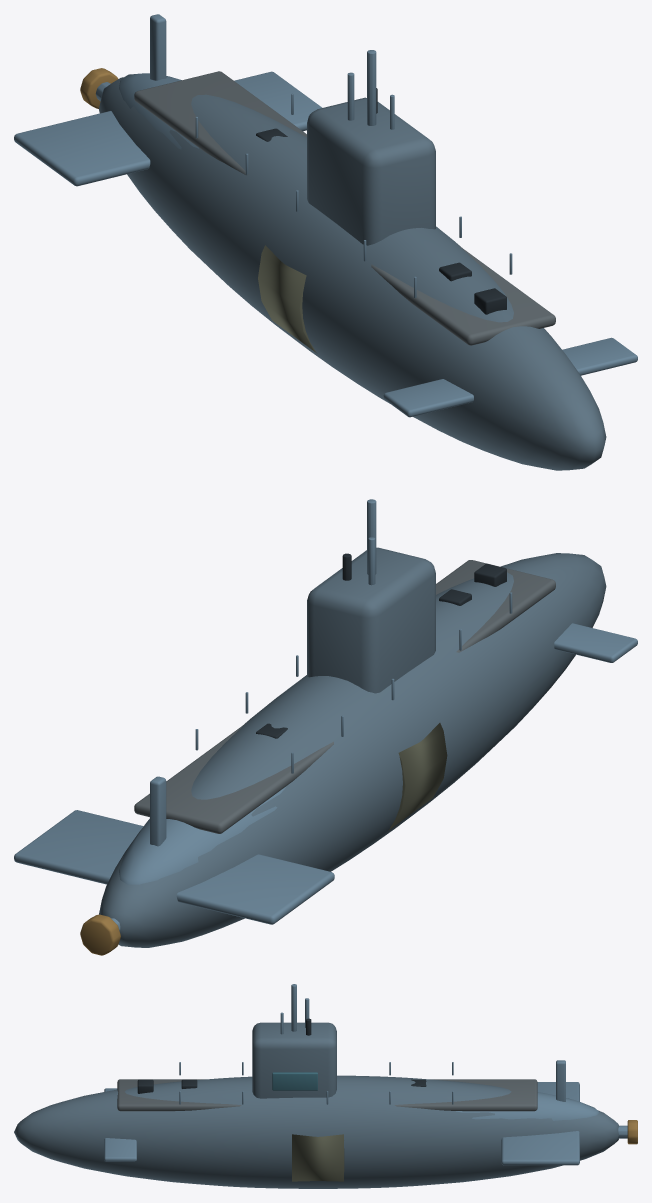
The model's file is hero-submarine-lod1.glb.
The picture shows the model from 3 angles, top to bottom: view 1: azimuth 30°, elevation 25°; view 2: azimuth 150°, elevation 25°; view 3: azimuth 270°, elevation 25°; orthographic projection. The views are drawn at different scales.
Parts seen in each view (by area): view 1: pressure-hull, rounded-sail, deck-casing, stern-horizontal-plane, bow-diving-planes, waterline-grime-band, upper-hull-wet-sheen, stern-rudder, propeller-hub, attack-periscope, ventilation-fairing-0; view 2: pressure-hull, rounded-sail, stern-horizontal-plane, deck-casing, upper-hull-wet-sheen, waterline-grime-band, bow-diving-planes, propeller-hub, stern-rudder; view 3: pressure-hull, rounded-sail, deck-casing, stern-horizontal-plane, waterline-grime-band, upper-hull-wet-sheen, bridge-window-band, bow-diving-planes, stern-rudder.
Boxes of the visible parts, left/top/right/bottom form: pressure-hull: left=99, top=77, right=606, bottom=470; rounded-sail: left=307, top=97, right=435, bottom=245; deck-casing: left=134, top=71, right=555, bottom=345; stern-horizontal-plane: left=14, top=71, right=322, bottom=186; bow-diving-planes: left=383, top=337, right=637, bottom=417; waterline-grime-band: left=258, top=245, right=317, bottom=353; upper-hull-wet-sheen: left=119, top=73, right=198, bottom=149; stern-rudder: left=150, top=14, right=166, bottom=80; propeller-hub: left=80, top=68, right=118, bottom=108; attack-periscope: left=367, top=50, right=376, bottom=125; ventilation-fairing-0: left=474, top=288, right=506, bottom=314; pressure-hull: left=99, top=553, right=606, bottom=947; rounded-sail: left=307, top=547, right=435, bottom=693; stern-horizontal-plane: left=14, top=810, right=334, bottom=924; deck-casing: left=134, top=560, right=555, bottom=833; upper-hull-wet-sheen: left=119, top=787, right=285, bottom=884; waterline-grime-band: left=388, top=723, right=447, bottom=830; bow-diving-planes: left=554, top=623, right=637, bottom=662; propeller-hub: left=80, top=914, right=120, bottom=955; stern-rudder: left=150, top=776, right=166, bottom=846; pressure-hull: left=14, top=1075, right=619, bottom=1188; rounded-sail: left=252, top=1022, right=336, bottom=1098; deck-casing: left=117, top=1079, right=537, bottom=1111; stern-horizontal-plane: left=501, top=1082, right=579, bottom=1165; waterline-grime-band: left=292, top=1134, right=344, bottom=1181; upper-hull-wet-sheen: left=456, top=1092, right=599, bottom=1120; bridge-window-band: left=272, top=1072, right=317, bottom=1090; bow-diving-planes: left=104, top=1088, right=136, bottom=1161; stern-rudder: left=556, top=1060, right=565, bottom=1101.
Size of the model in its own units: 6 by 7.03 by 19.91.
